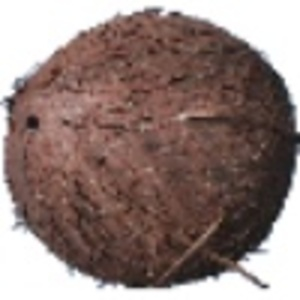coco: (1, 9, 300, 290)
